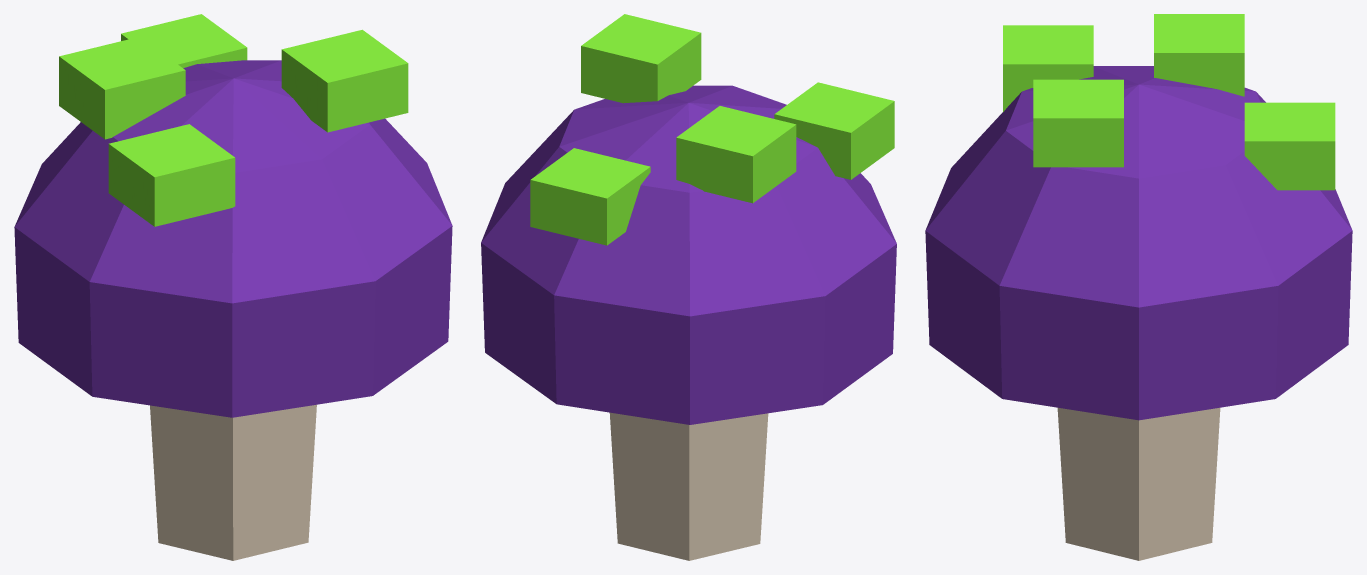
File: env_r11_mutant_mushroom.glb
The picture shows the model from 3 angles, left to right: view 1: azimuth 30°, elevation 25°; view 2: azimuth 150°, elevation 25°; view 3: azimuth 270°, elevation 25°; orthographic projection. The views are drawn at different scales.
Parts seen in each view (by area): view 1: env_r11_mutant_mushroom; view 2: env_r11_mutant_mushroom; view 3: env_r11_mutant_mushroom.
Part boxes in pixels (x1,y1,x2,y2): env_r11_mutant_mushroom: (14, 14, 452, 560); env_r11_mutant_mushroom: (481, 14, 896, 560); env_r11_mutant_mushroom: (925, 14, 1352, 560).
Size of the model in its own units: 1.5 by 1.8 by 1.5.
1 material, 1 textured.
